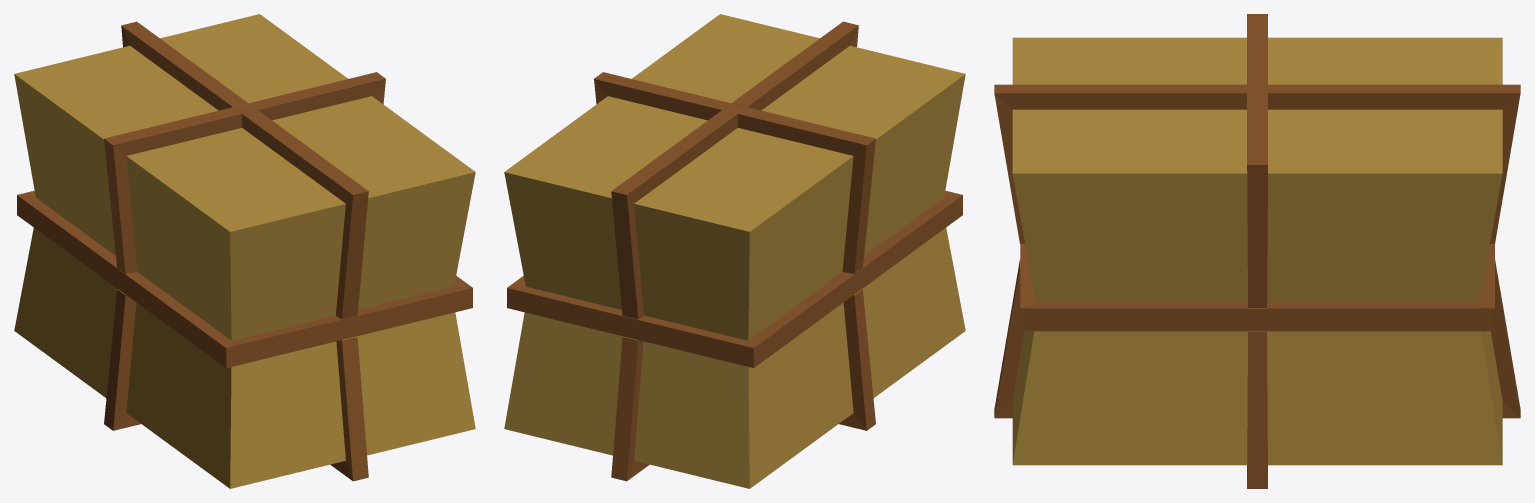
The model's file is HayBaleBox 1.fbx.
The picture shows the model from 3 angles, left to right: view 1: azimuth 30°, elevation 25°; view 2: azimuth 150°, elevation 25°; view 3: azimuth 270°, elevation 25°; orthographic projection. The views are drawn at different scales.
Visible parts, largest first — view 1: Cube.001; view 2: Cube.001; view 3: Cube.001.
Part boxes in pixels (box(x1,y1,x2,y2)): Cube.001: box(14, 14, 475, 488); Cube.001: box(504, 14, 965, 488); Cube.001: box(994, 14, 1520, 488).
Bounding box in the file's own units: 87.48 × 87.72 × 129.
